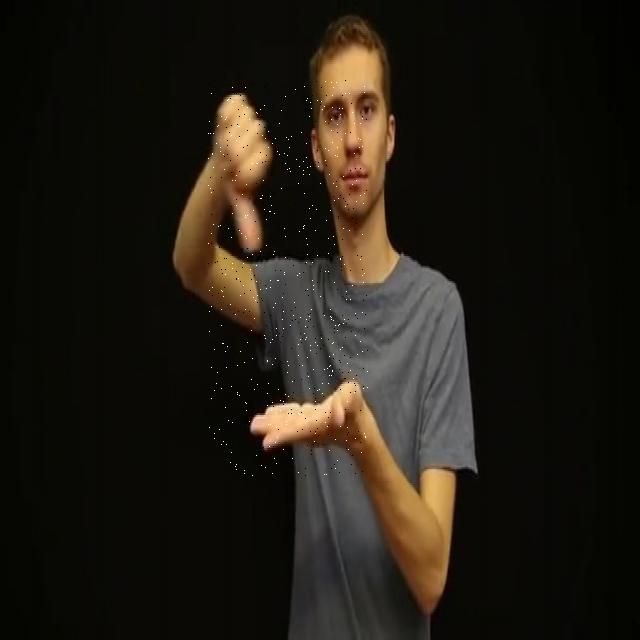sauce: (208, 80, 368, 476)
